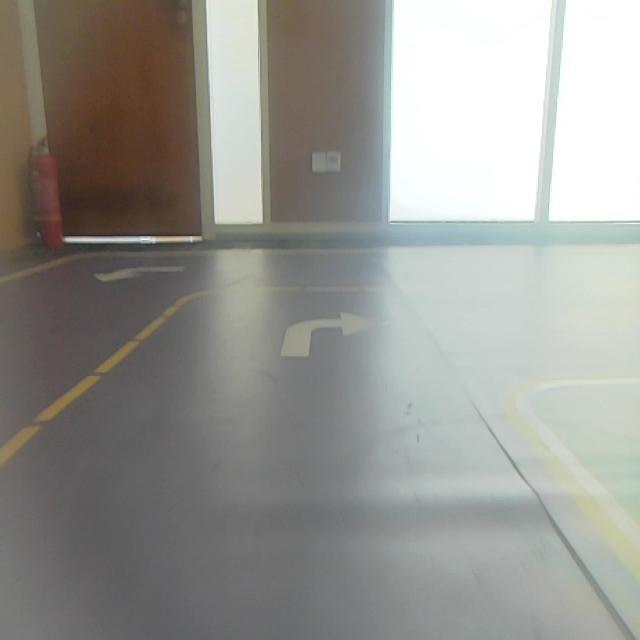left_lane: (0, 299, 189, 470)
right_lane: (507, 400, 640, 580)
